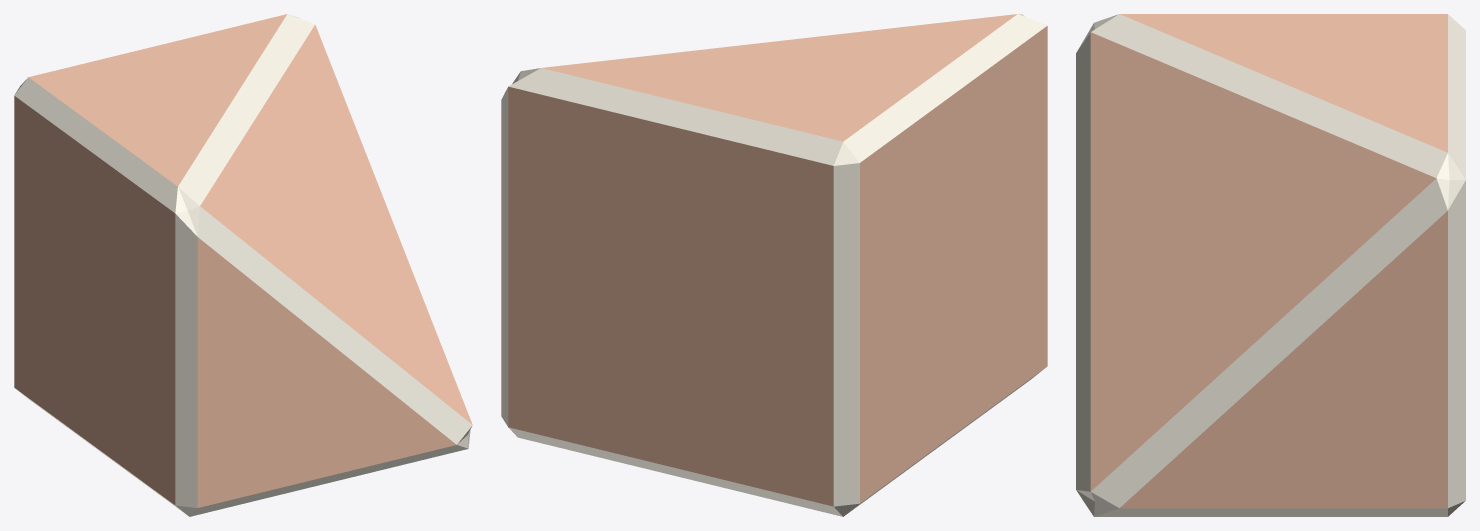
Rendered from R4B_InnerCorner_LOD1.fbx.
3 views of the same model, side by side, from view 1: azimuth 30°, elevation 25°; view 2: azimuth 150°, elevation 25°; view 3: azimuth 270°, elevation 25° (orthographic). The views are drawn at different scales.
Visible parts, largest first — view 1: R4B_InnerCorner_LOD1; view 2: R4B_InnerCorner_LOD1; view 3: R4B_InnerCorner_LOD1.
Part boxes in pixels (bbox=[...]): R4B_InnerCorner_LOD1: bbox=[14, 14, 472, 516]; R4B_InnerCorner_LOD1: bbox=[501, 14, 1047, 516]; R4B_InnerCorner_LOD1: bbox=[1076, 14, 1465, 516].
Bounding box in the file's own units: 0.52 × 0.52 × 0.52.
